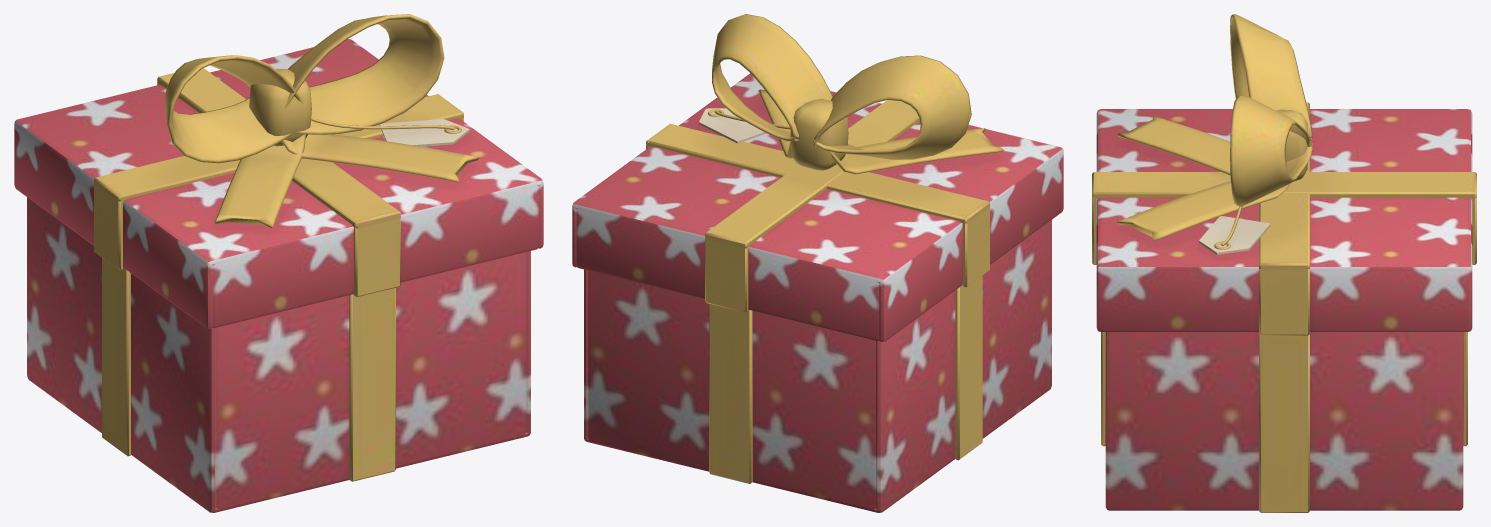
The model's file is gift-box.glb.
The picture shows the model from 3 angles, left to right: view 1: azimuth 30°, elevation 25°; view 2: azimuth 150°, elevation 25°; view 3: azimuth 270°, elevation 25°; orthographic projection. The views are drawn at different scales.
Parts seen in each view (by area): view 1: gift-box_lid, gift-box_body; view 2: gift-box_lid, gift-box_body; view 3: gift-box_lid, gift-box_body.
Part boxes in pixels (x1,y1,x2,y2): gift-box_lid: (14,14,543,328); gift-box_body: (27,197,530,512); gift-box_lid: (572,14,1063,341); gift-box_body: (584,220,1051,512); gift-box_lid: (1092,14,1476,335); gift-box_body: (1101,332,1467,512).
Bounding box in the file's own units: 0.5676 × 0.6117 × 0.5676.
Materials: 2 (2 with a texture image).
